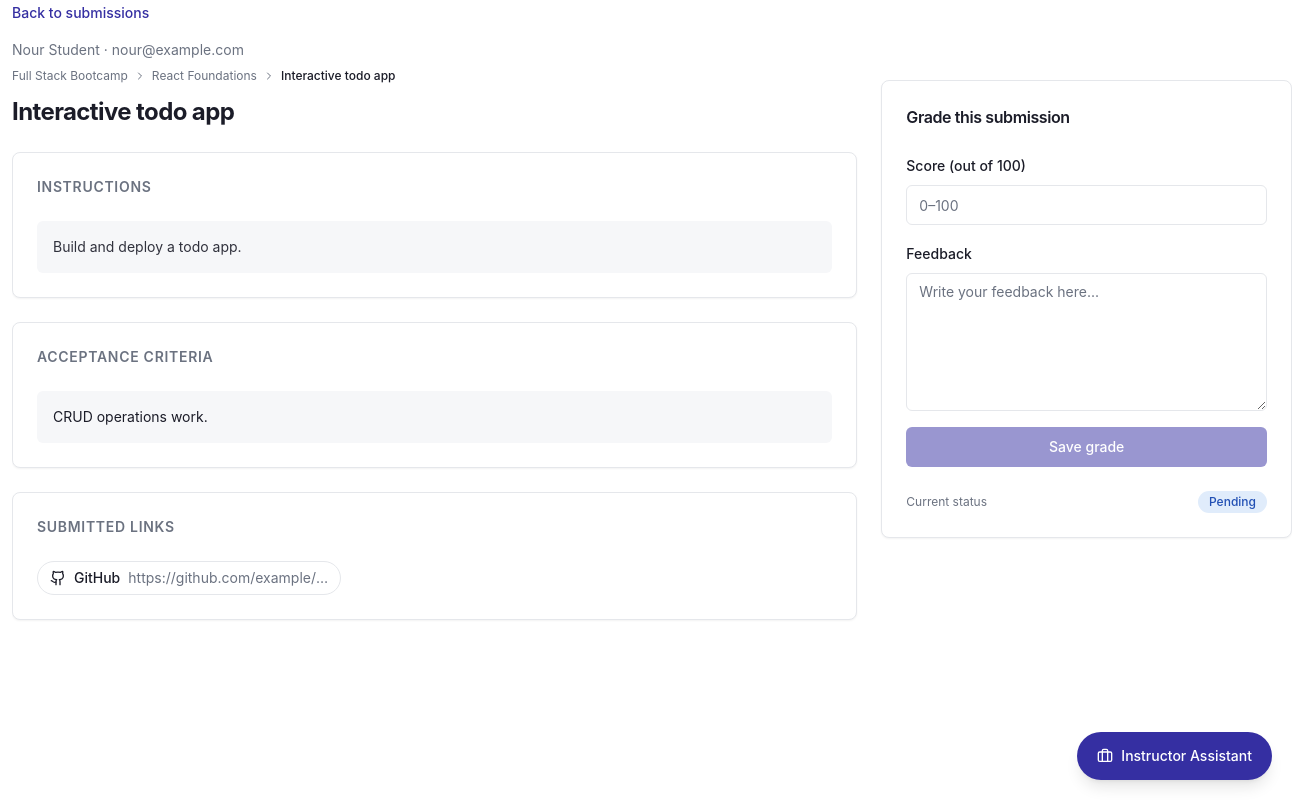
Scenario: ReviewSubmissionPage › sends the grade to the API and updates the submission to graded
Expected: the text "Nour Student · nour@example.com" is shown, [12,41,244,58]
Step 1. Type "85" into the number field labelled "Score (out of 100)" → x=1087, y=205, box [906,185,1267,225]
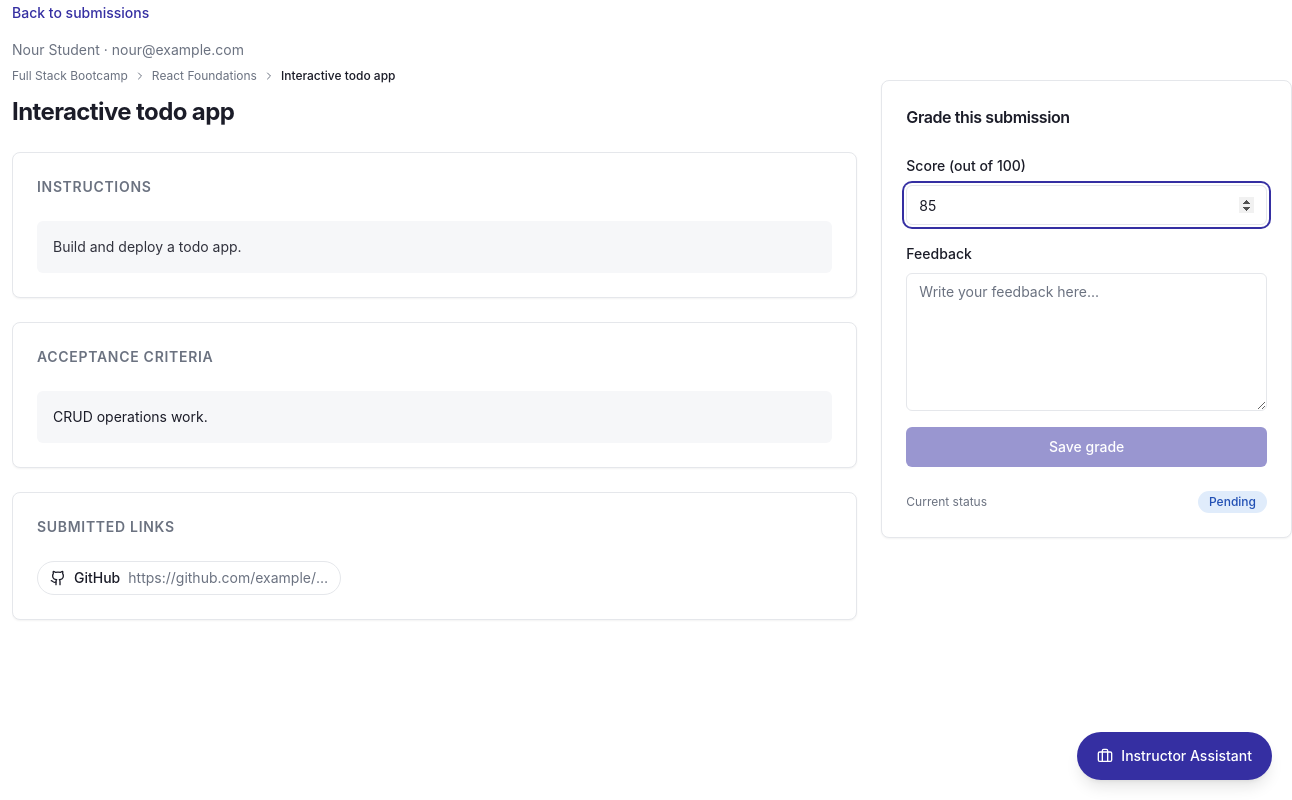
Step 2. Type "Good implementation" into the text box labelled "Feedback" → x=1087, y=342, box [906,273,1267,411]
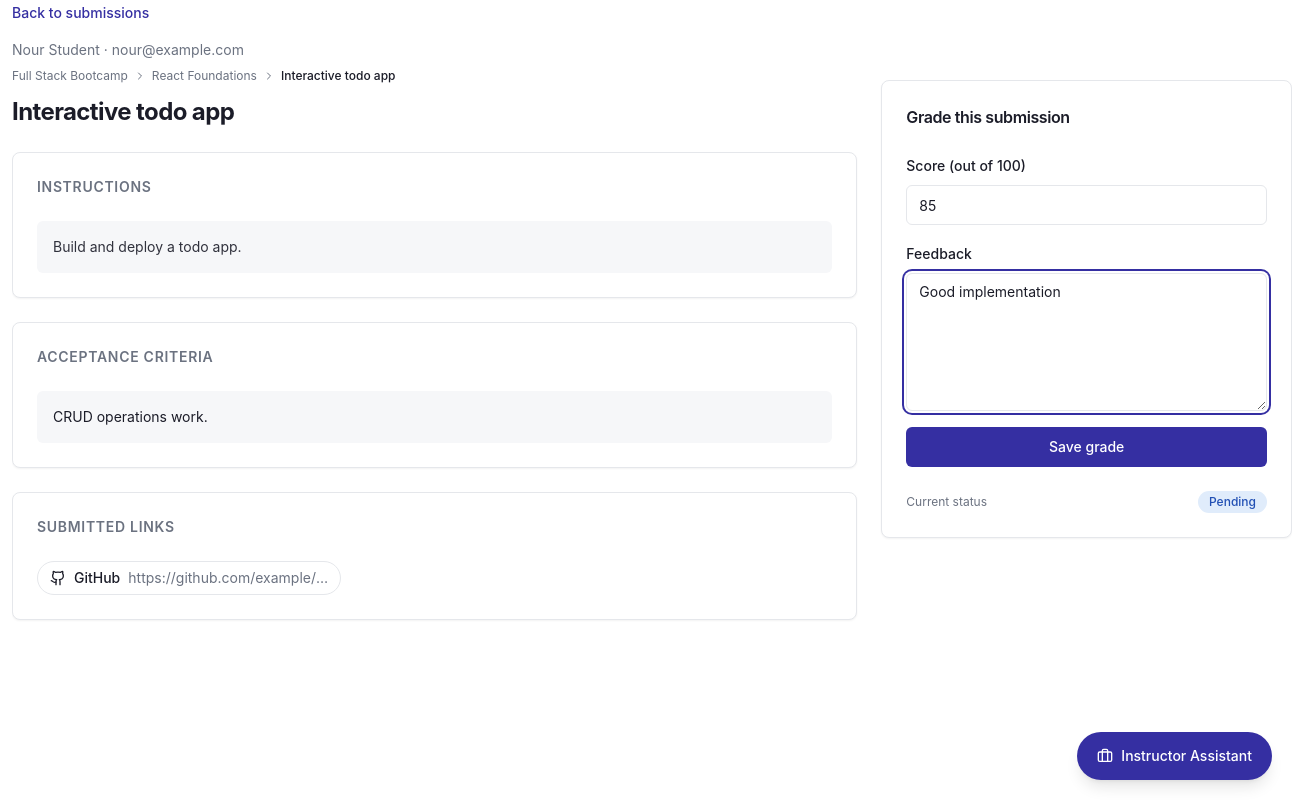
Step 3. Click the button "Save grade" → x=1087, y=447, box [906,427,1267,467]
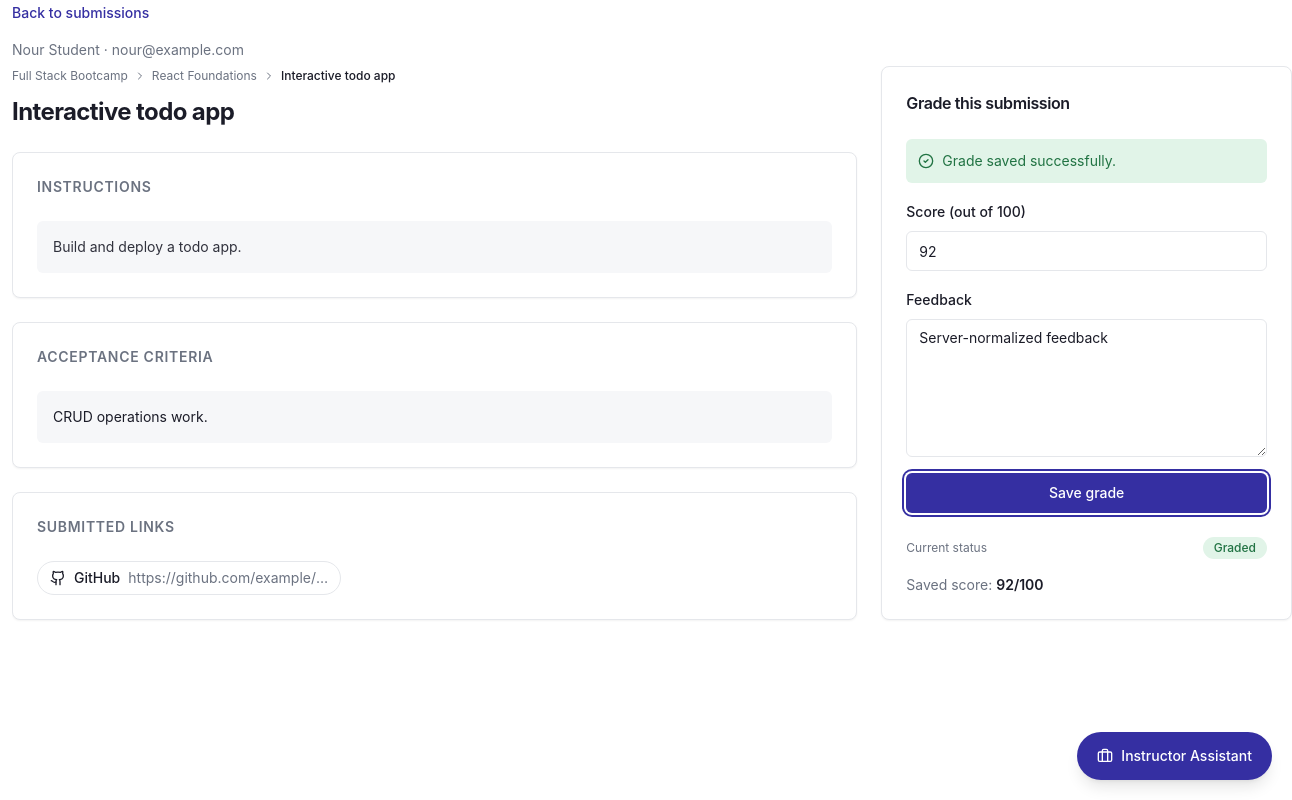
Expected: the message reads "Grade saved successfully.", [942,152,1116,169]
Expected: the text "Graded" is shown, [1203,537,1267,559]
Expected: the text "92/100" is shown, [996,576,1044,593]
